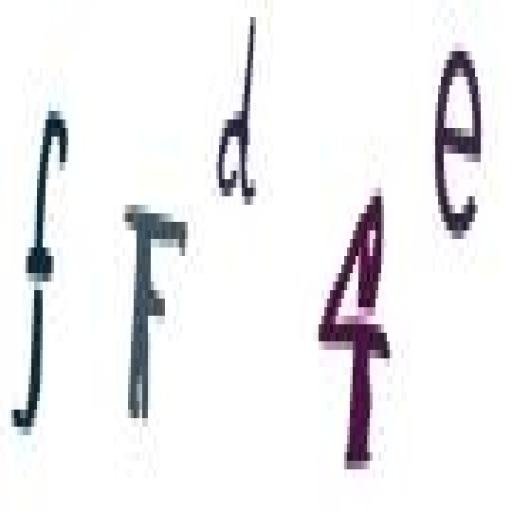4: (313, 166, 397, 484)
F: (118, 181, 188, 446)
d: (215, 0, 261, 229)
e: (430, 29, 488, 252)
f: (12, 90, 77, 468)
